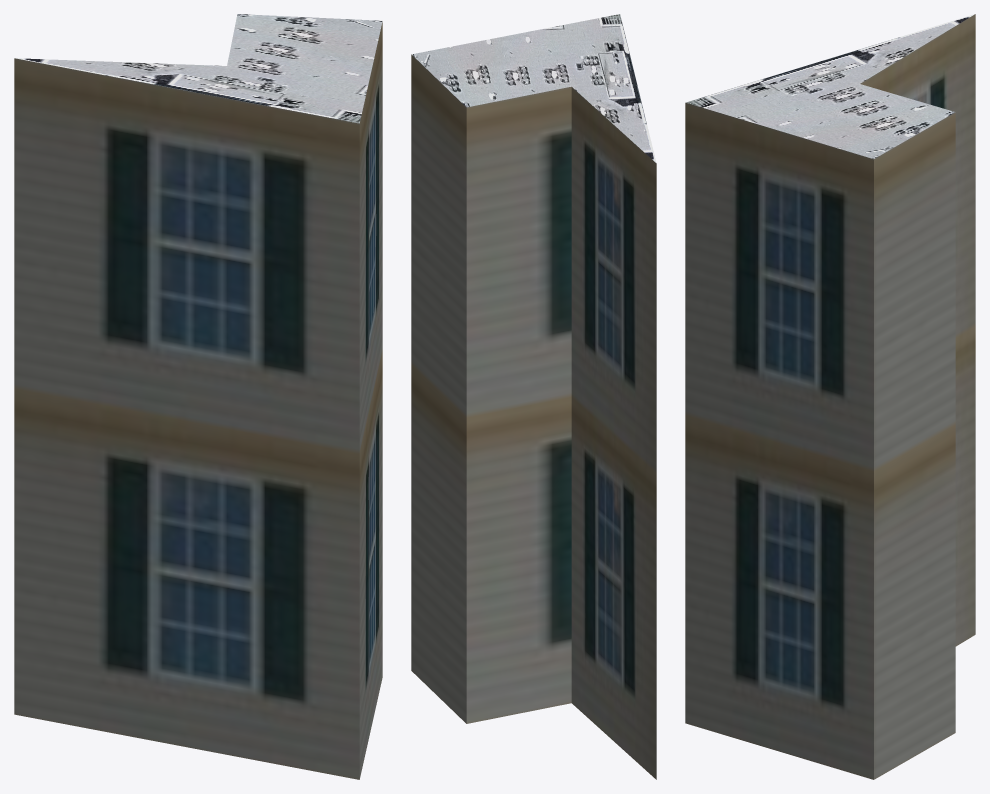
File: ResTex__3838.fbx
3 renders of one model, left to right at view 1: azimuth 30°, elevation 25°; view 2: azimuth 150°, elevation 25°; view 3: azimuth 270°, elevation 25°, orthographic. The views are drawn at different scales.
Parts seen in each view (by area): view 1: CityEngineMaterial_7_m, CityEngineMaterial_m; view 2: CityEngineMaterial_7_m, CityEngineMaterial_m; view 3: CityEngineMaterial_7_m, CityEngineMaterial_m.
Boxes of the visible parts, left/top/right/bottom form: CityEngineMaterial_7_m: left=14, top=22, right=382, bottom=779; CityEngineMaterial_m: left=16, top=14, right=382, bottom=123; CityEngineMaterial_7_m: left=411, top=54, right=656, bottom=779; CityEngineMaterial_m: left=412, top=14, right=656, bottom=162; CityEngineMaterial_7_m: left=685, top=14, right=975, bottom=779; CityEngineMaterial_m: left=686, top=14, right=974, bottom=158.
Bounding box in the file's own units: 3.01 × 6 × 2.54.
2 materials, 2 textured.
